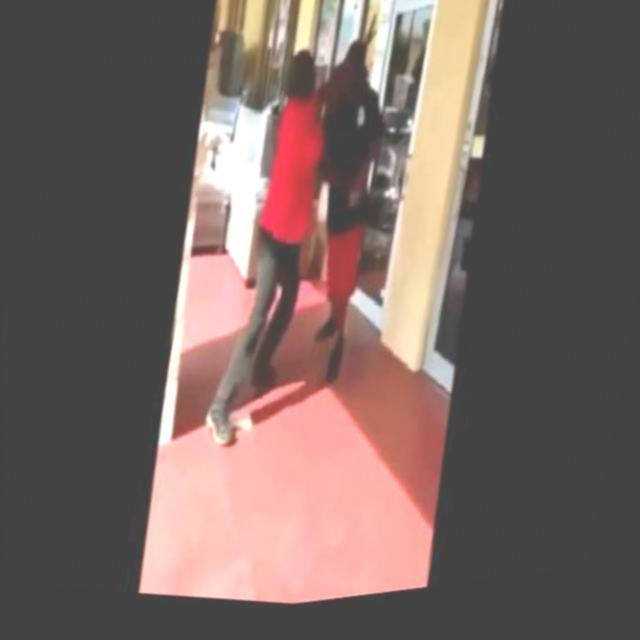fight: (193, 21, 412, 482)
